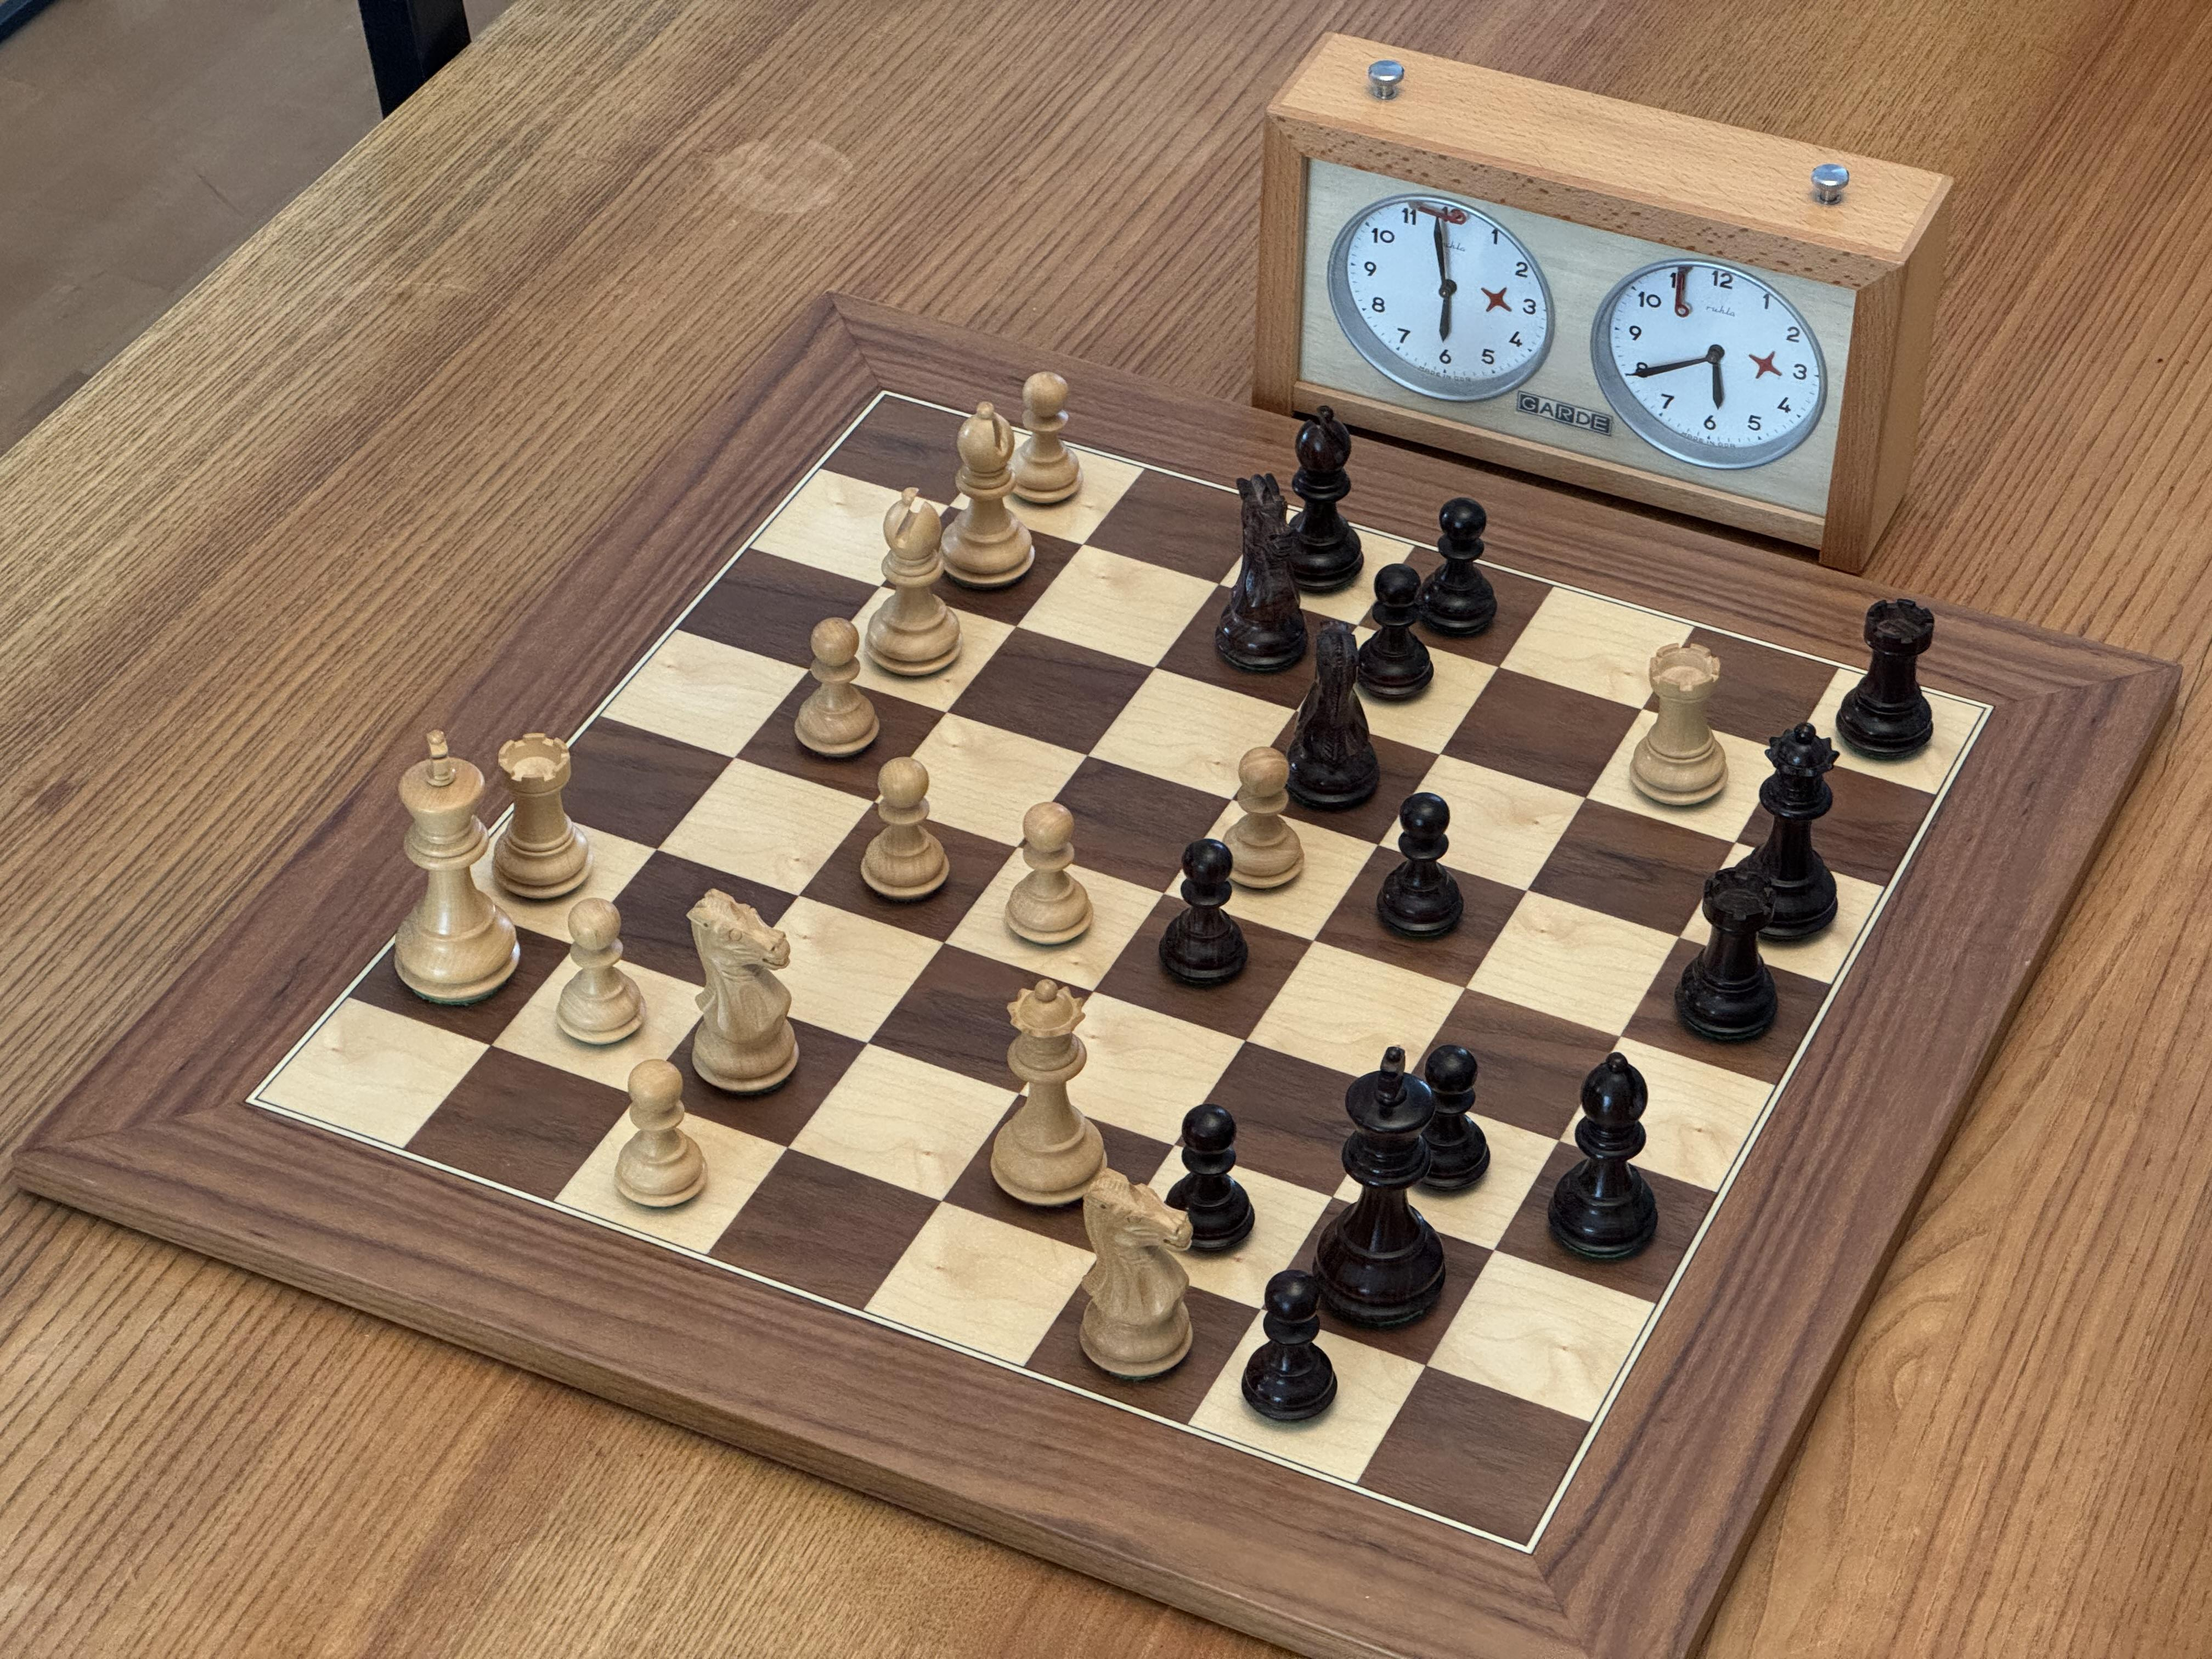Black Bishop: (1538, 1047, 1665, 1269), (1268, 401, 1367, 599)
Black King: (1306, 1042, 1453, 1342)
Black Knight: (1207, 465, 1315, 688), (1277, 615, 1383, 816)
Black Pawn: (1153, 1091, 1259, 1265), (1238, 1256, 1341, 1431), (1153, 830, 1254, 999), (1371, 788, 1470, 951), (1406, 1039, 1498, 1204), (1346, 559, 1439, 709), (1414, 490, 1503, 643)
Black Queen: (1724, 716, 1846, 957)
Black Rook: (1669, 864, 1784, 1053), (1831, 592, 1940, 767)
White Bishop: (857, 484, 967, 690), (932, 397, 1040, 591)
White King: (388, 725, 528, 1016)
White Knight: (676, 884, 812, 1101), (1069, 1164, 1198, 1385)
White Pawn: (606, 1054, 712, 1218), (547, 890, 653, 1053), (853, 751, 956, 913), (996, 798, 1101, 953), (1217, 741, 1310, 899), (789, 612, 883, 767), (1005, 369, 1090, 516)
White Queen: (974, 971, 1120, 1218)
White Rook: (481, 727, 599, 908), (1623, 638, 1738, 819)
